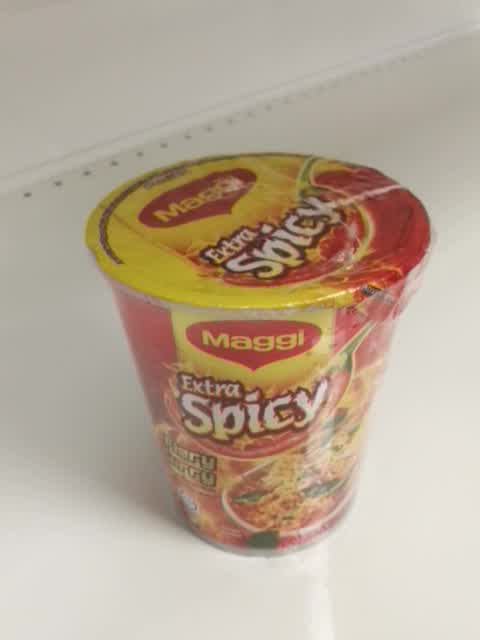maggi: (81, 151, 436, 559)
